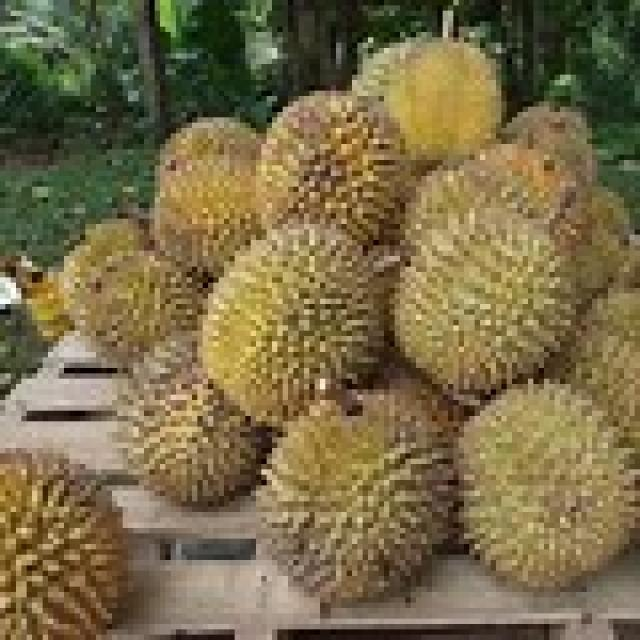mature: (256, 369, 462, 602), (258, 91, 411, 246), (125, 331, 262, 504)
